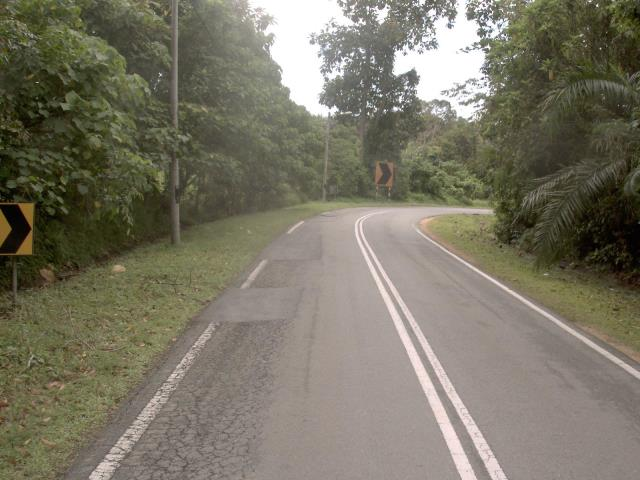traffic_sign: (0, 191, 42, 268)
